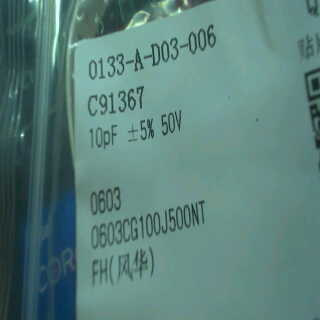10pF: (87, 119, 121, 157)
